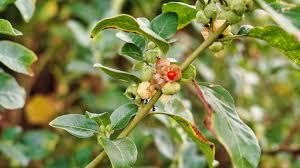healthy_leaf: (7, 1, 300, 168)
